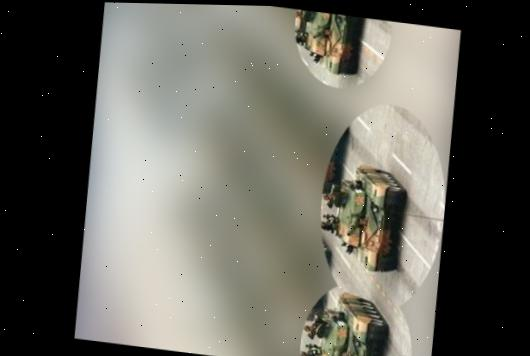tank: (317, 157, 410, 275), (298, 282, 392, 356), (290, 9, 367, 80)
